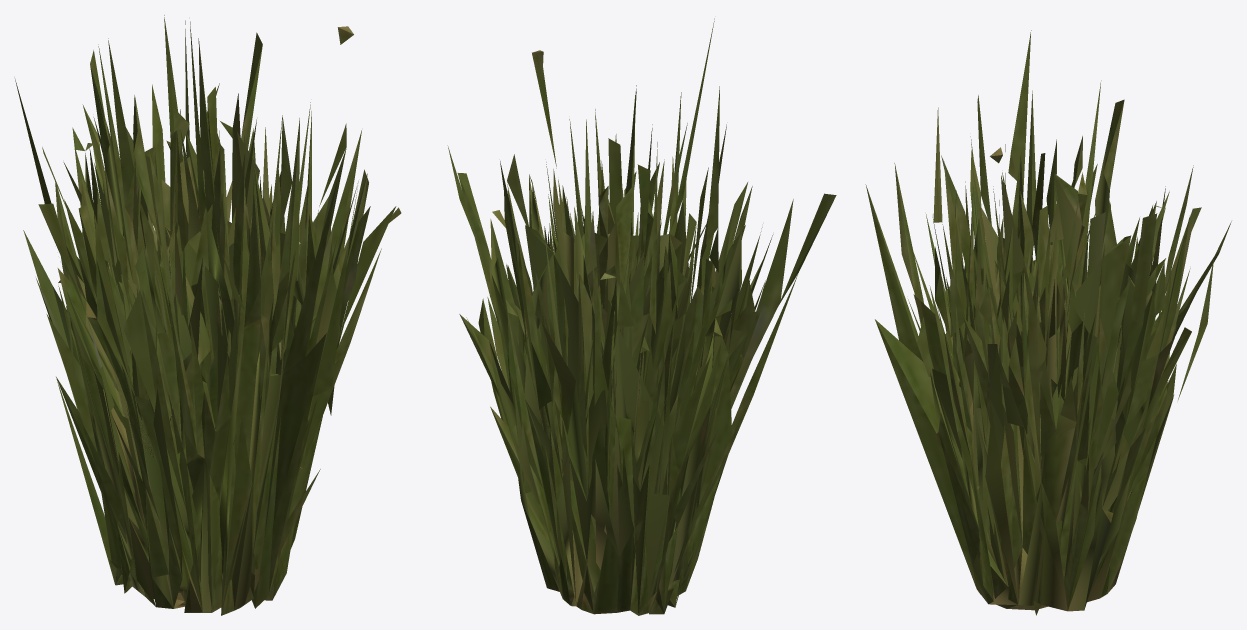
File: junco_recoger.glb
The picture shows the model from 3 angles, left to right: view 1: azimuth 30°, elevation 25°; view 2: azimuth 150°, elevation 25°; view 3: azimuth 270°, elevation 25°; orthographic projection. The views are drawn at different scales.
Parts seen in each view (by area): view 1: cerca, medio, lejos; view 2: cerca, medio, lejos; view 3: cerca, medio, lejos.
Part boxes in pixels (x1=…): cerca: x1=15, y1=15, x2=401, y2=615; medio: x1=41, y1=21, x2=370, y2=614; lejos: x1=52, y1=242, x2=308, y2=592; cerca: x1=447, y1=18, x2=836, y2=615; medio: x1=490, y1=119, x2=757, y2=615; lejos: x1=508, y1=243, x2=729, y2=585; cerca: x1=865, y1=30, x2=1231, y2=615; medio: x1=913, y1=107, x2=1213, y2=611; lejos: x1=930, y1=255, x2=1150, y2=605.
Size of the model in its own units: 0.8916 by 1.3 by 0.7877.
Materials: 2 (1 with a texture image).
